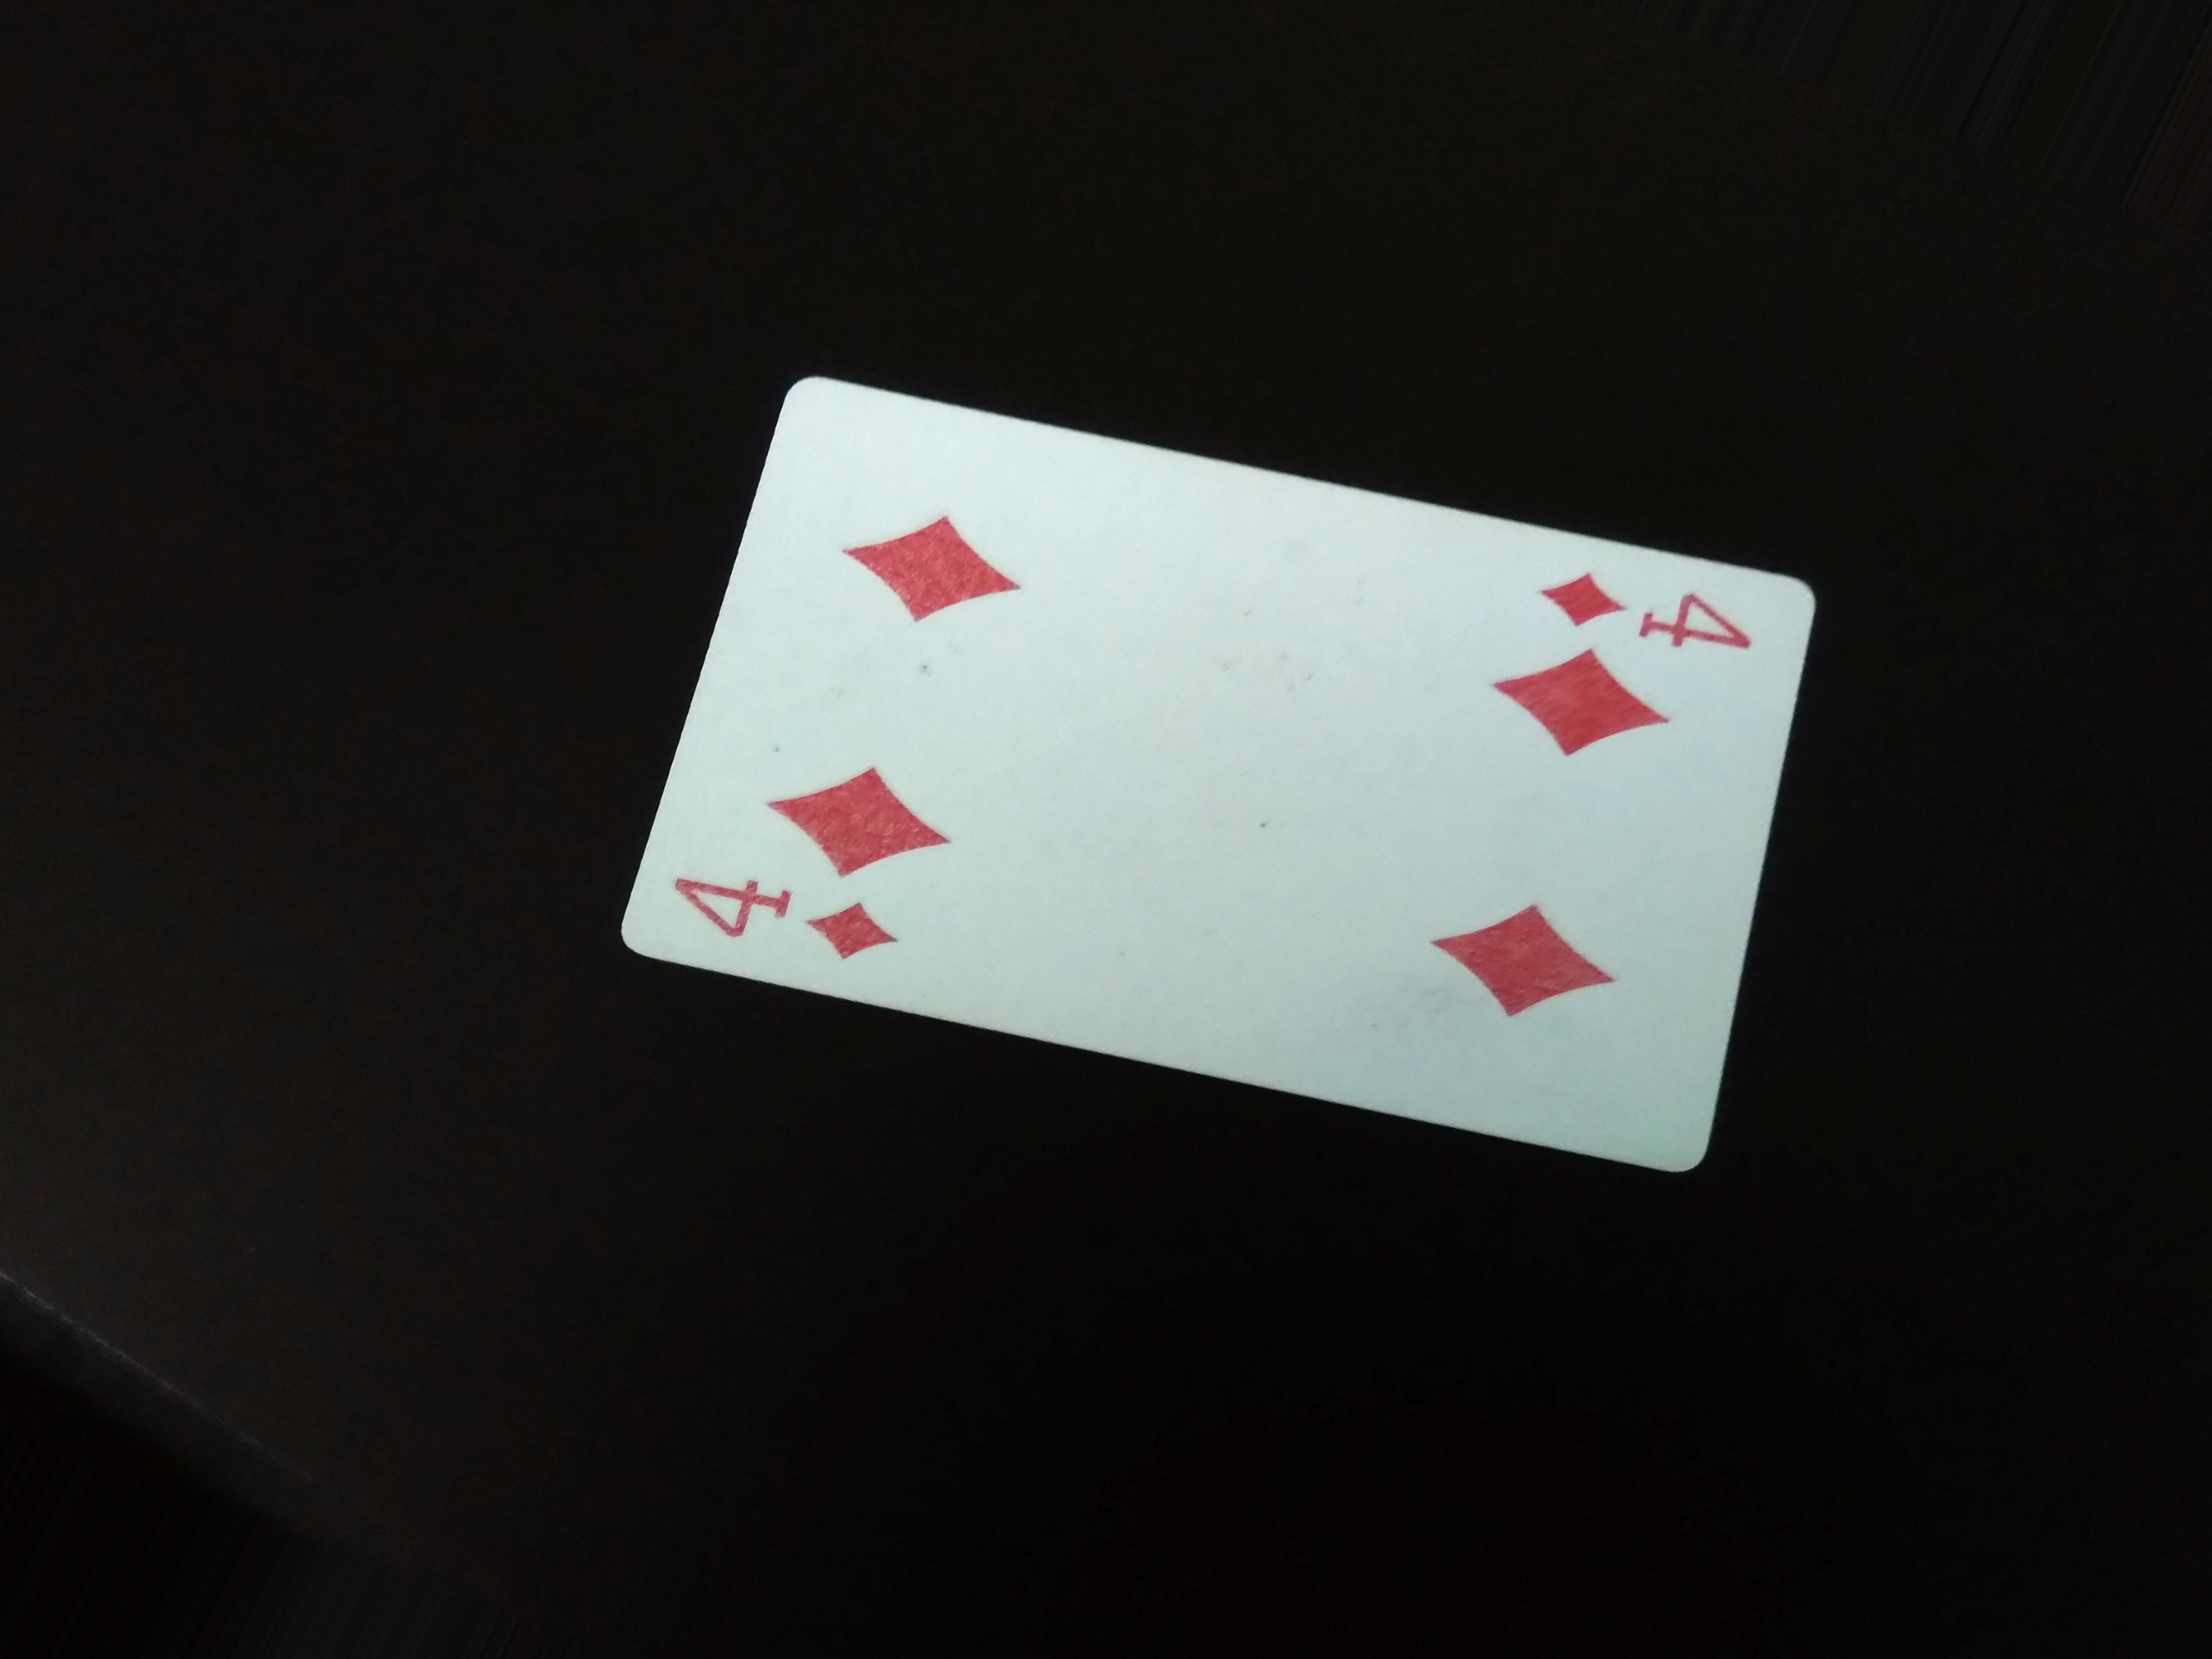4D: (1536, 568, 1761, 664)
